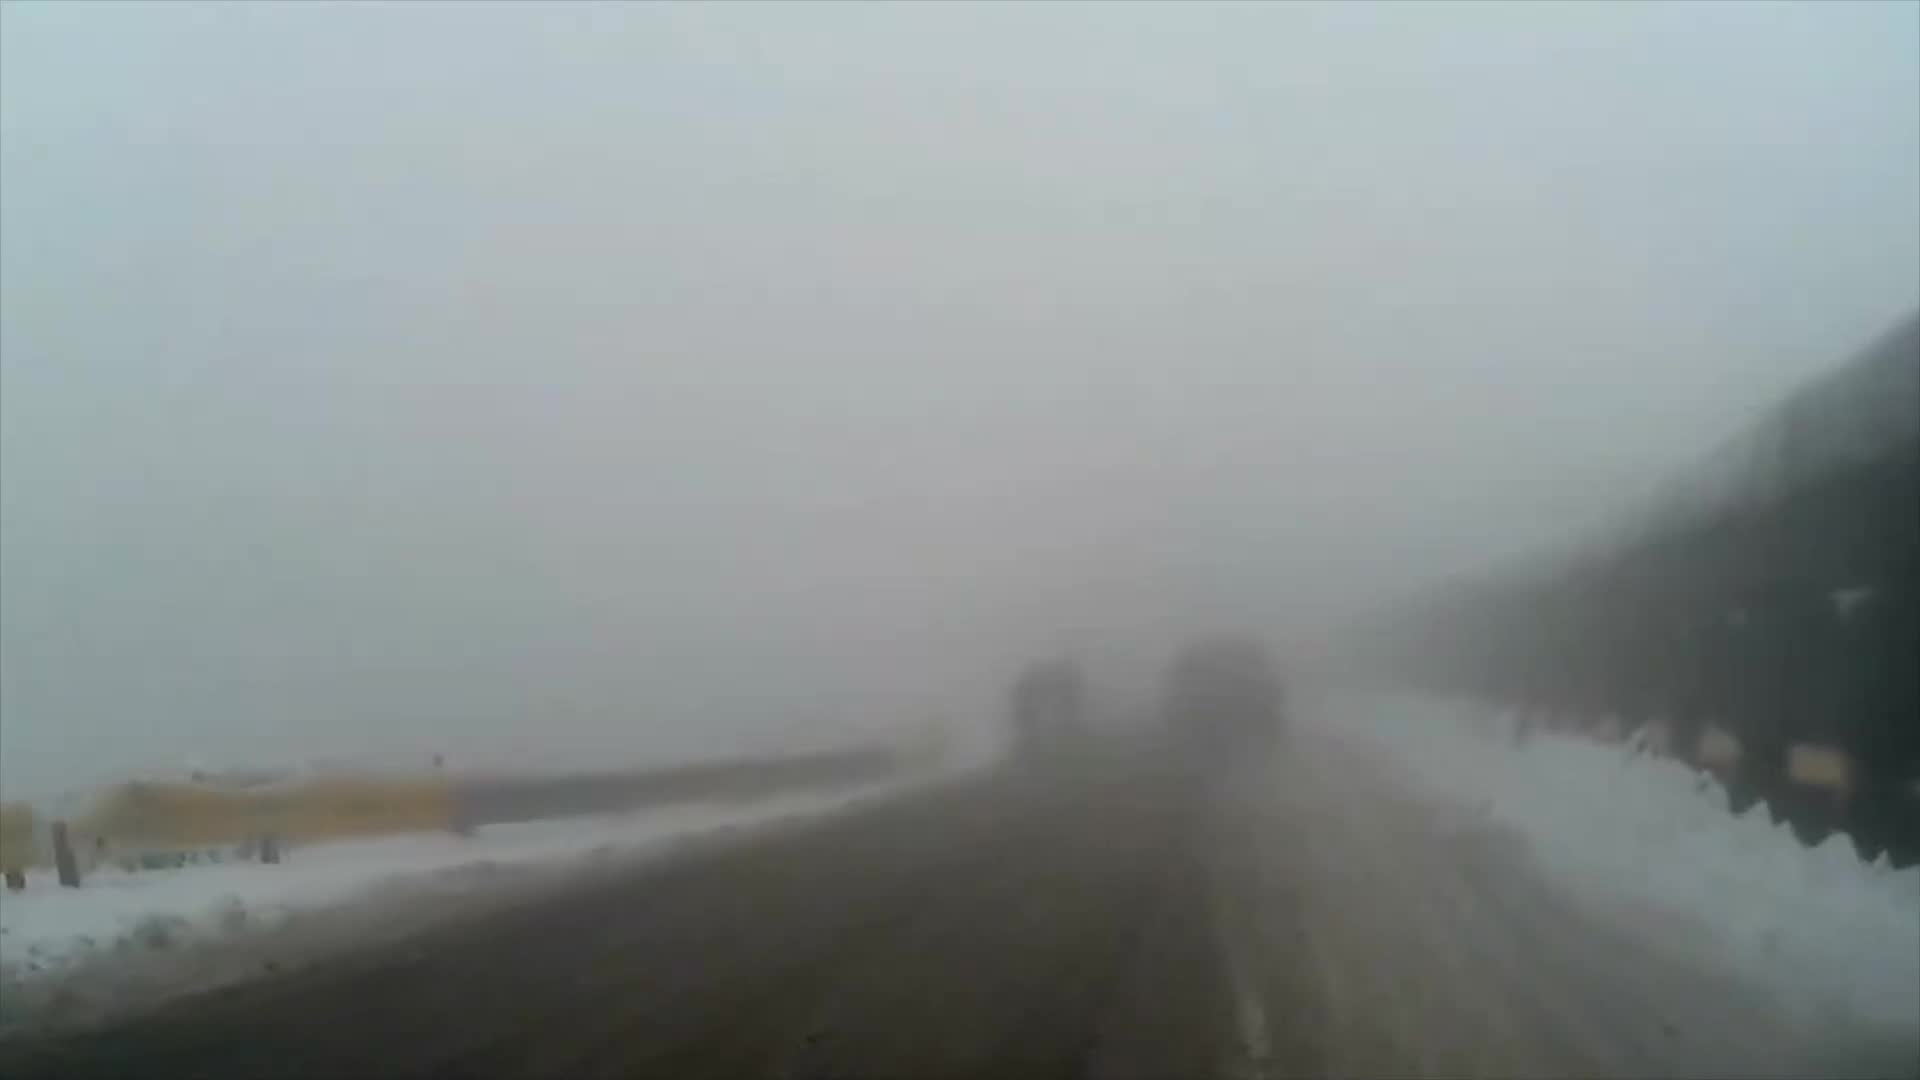pedestrian: (1041, 644, 1096, 768), (1005, 659, 1056, 786)
vehicle: (1157, 637, 1287, 758)
